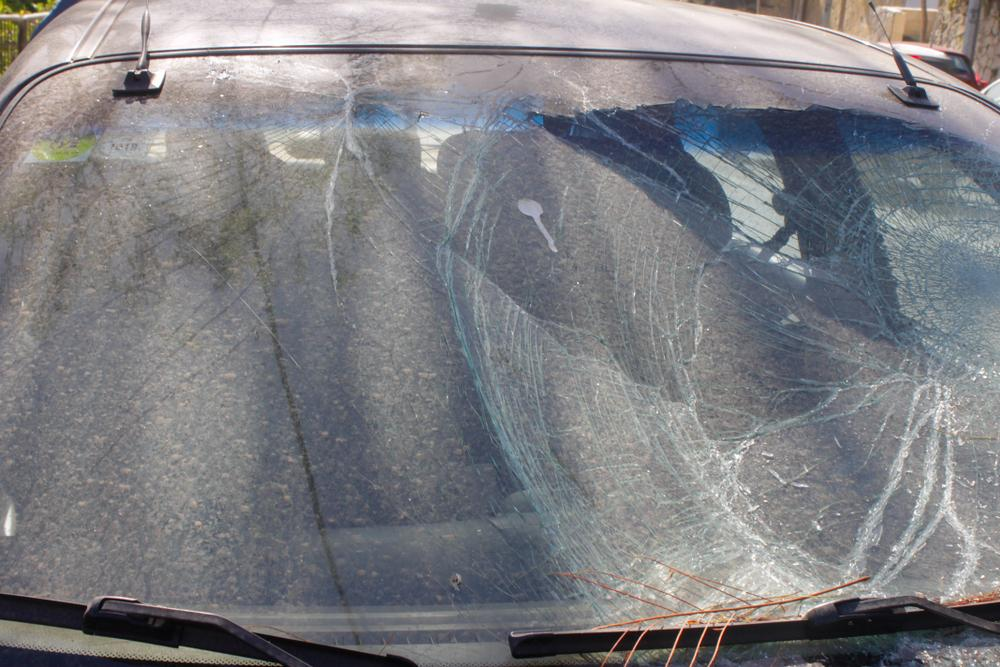glass shatter: (0, 52, 1000, 667)
